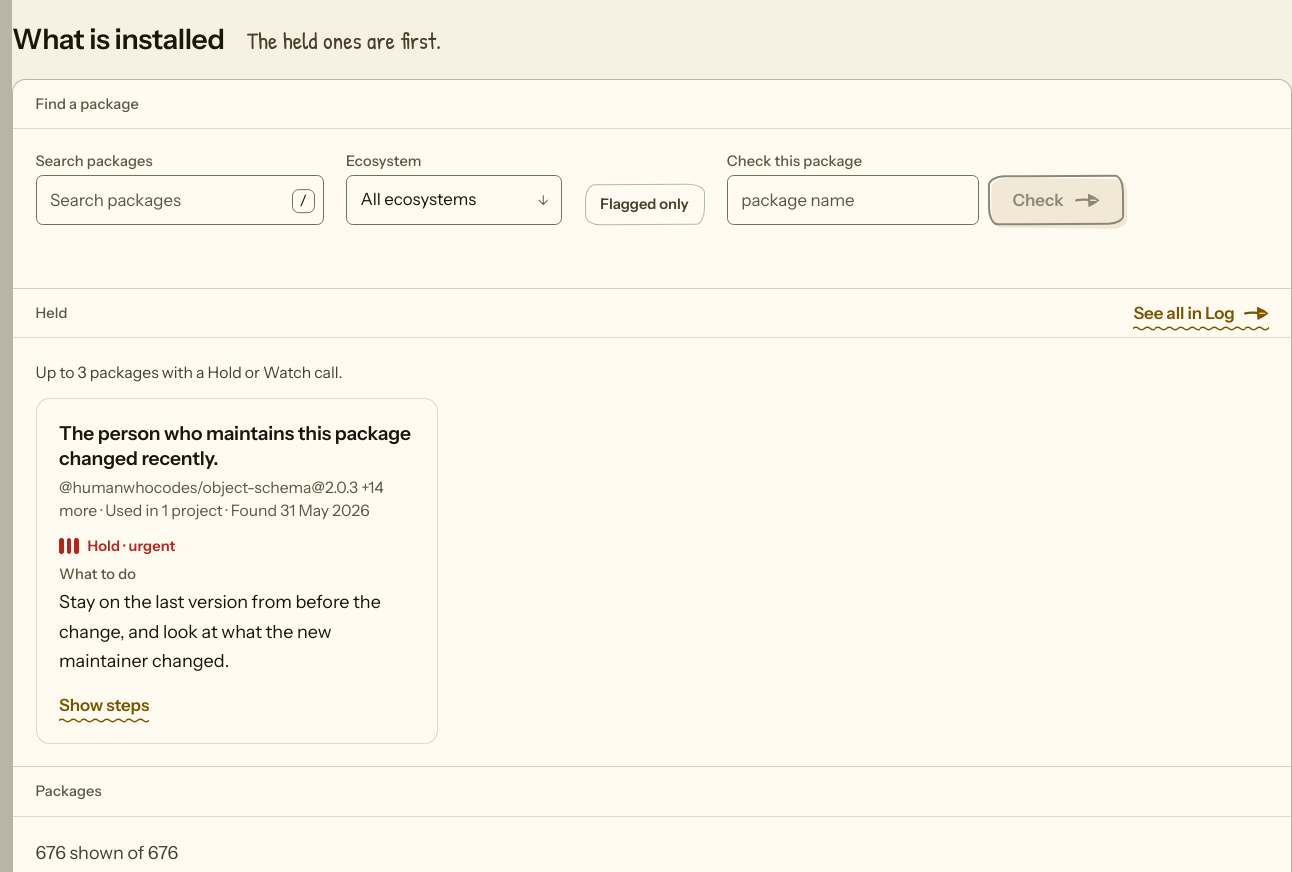
Installed: data truth and plain checks › a package Crowsnest has no record of reads Unknown, never OK, with no decimals
Check: the text "676 shown of 676" is shown, box [36,842,178,864]
Type "ghostpkg" into the field labelled "Check this package" at (853, 200), box [727,175,979,225]
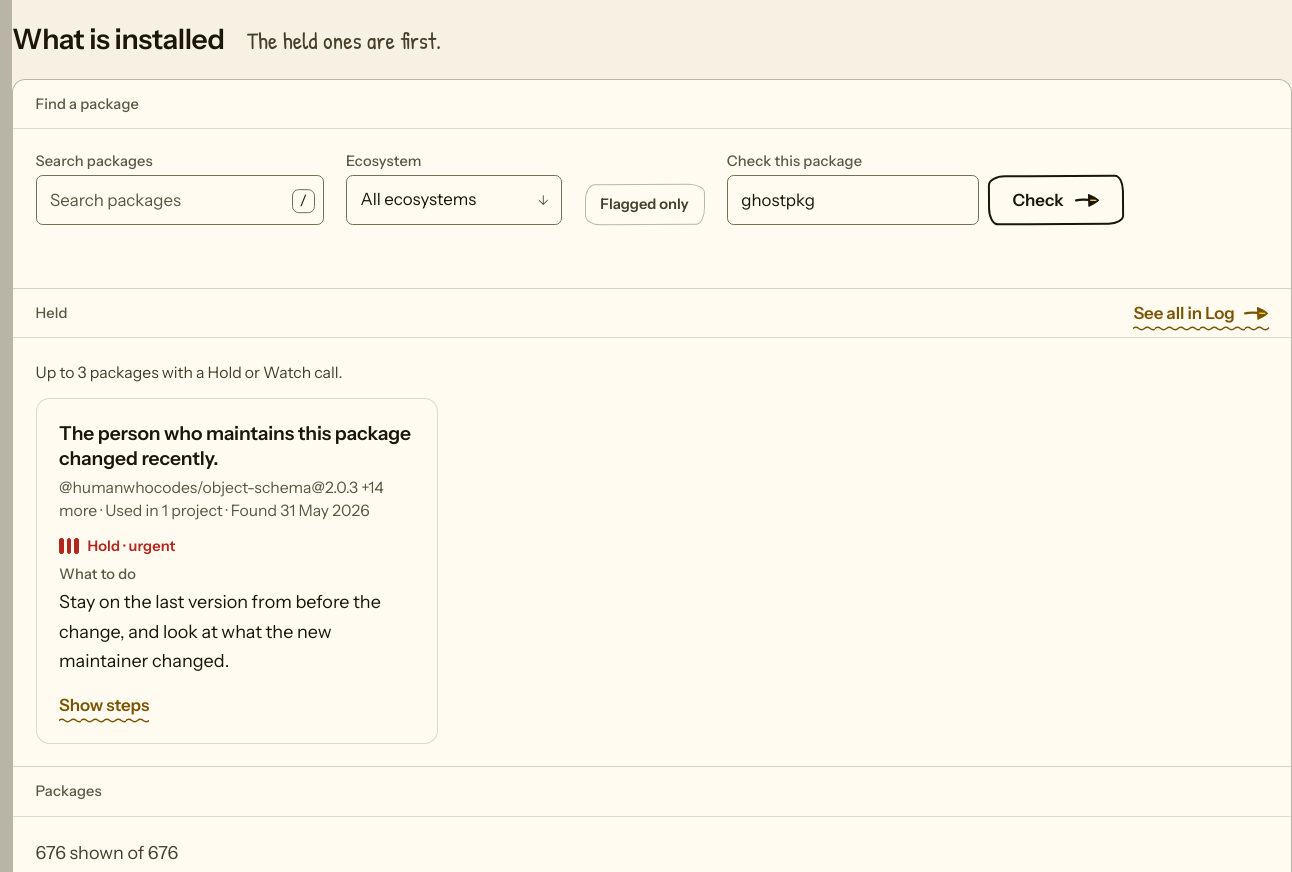
Click the button "Check" at (1056, 200), box [988,175,1124,225]
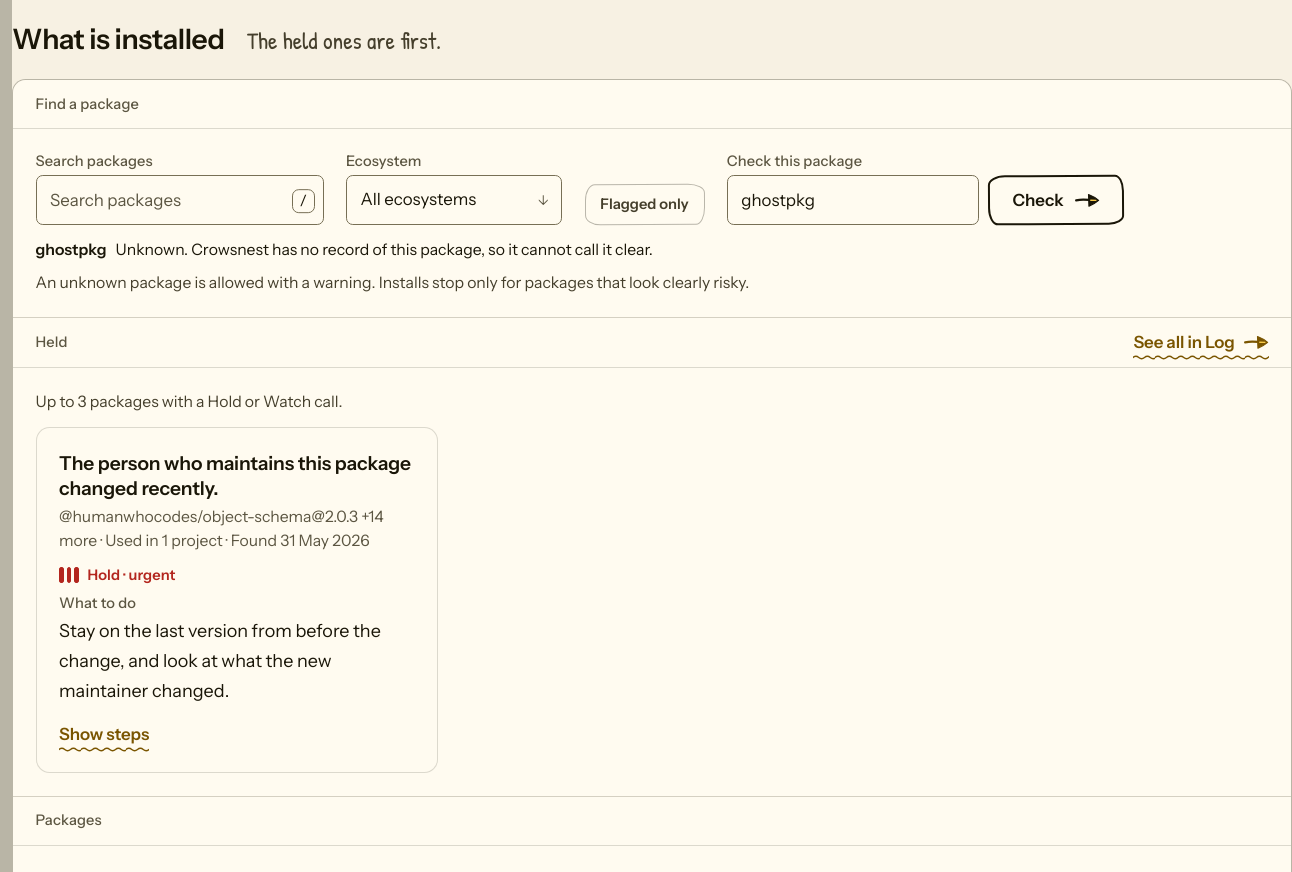
Check: the text "Unknown. Crowsnest has no record of this package, so it cannot call it clear." is shown, box [116,238,653,262]
Check: the text "allowed with a warning" is shown, box [36,273,749,292]
